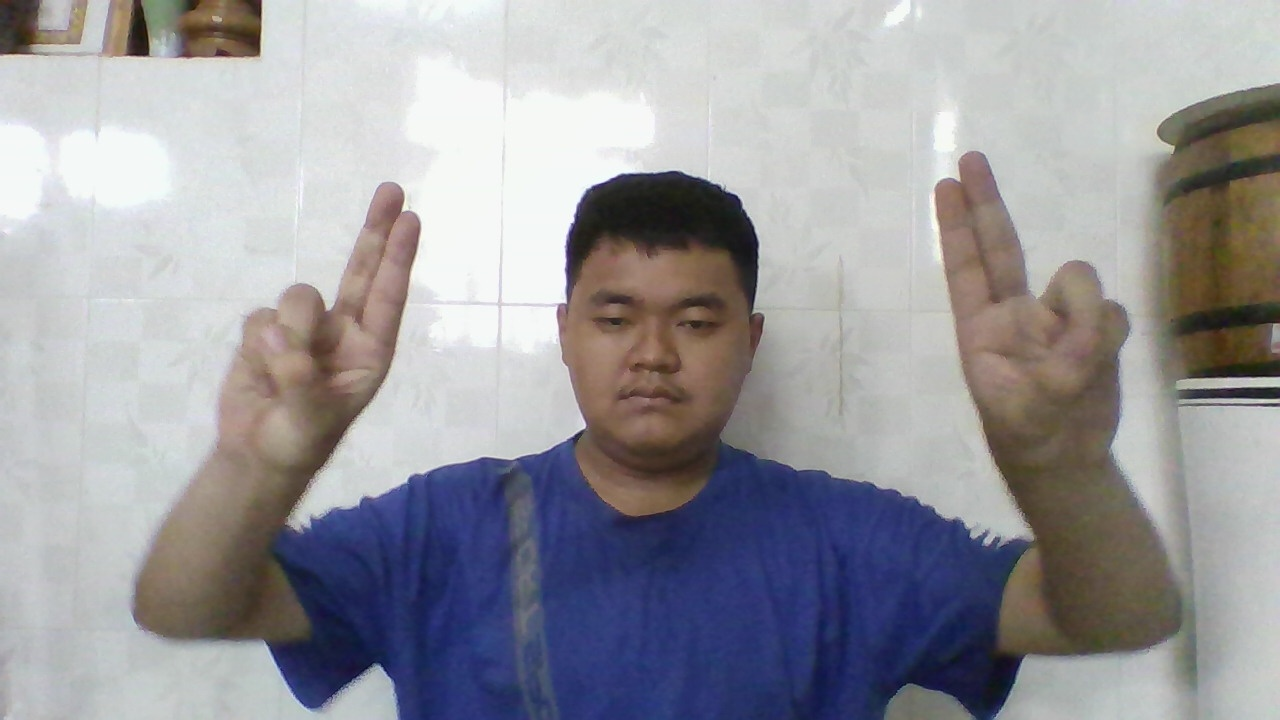U: (931, 144, 1128, 479), (232, 177, 420, 475)
